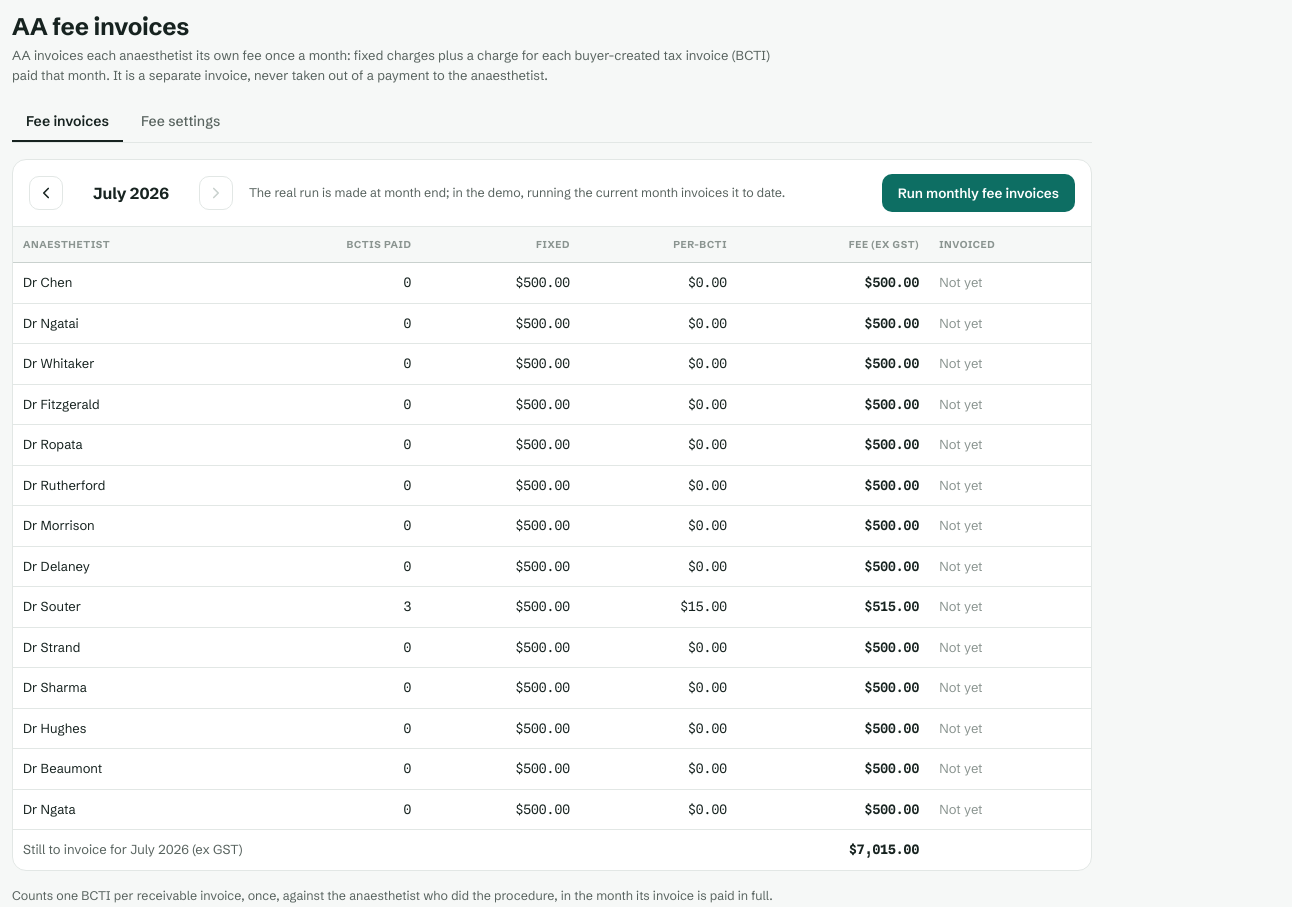
it: AA fee invoices screen (catch-up Phase 16) › steps months back but never past the demo month
The image size is (1292, 907).
Expected: the button named "Next month" is disabled, [199, 176, 233, 210]
Click the button named "Previous month" at (46, 193), box [29, 176, 63, 210]
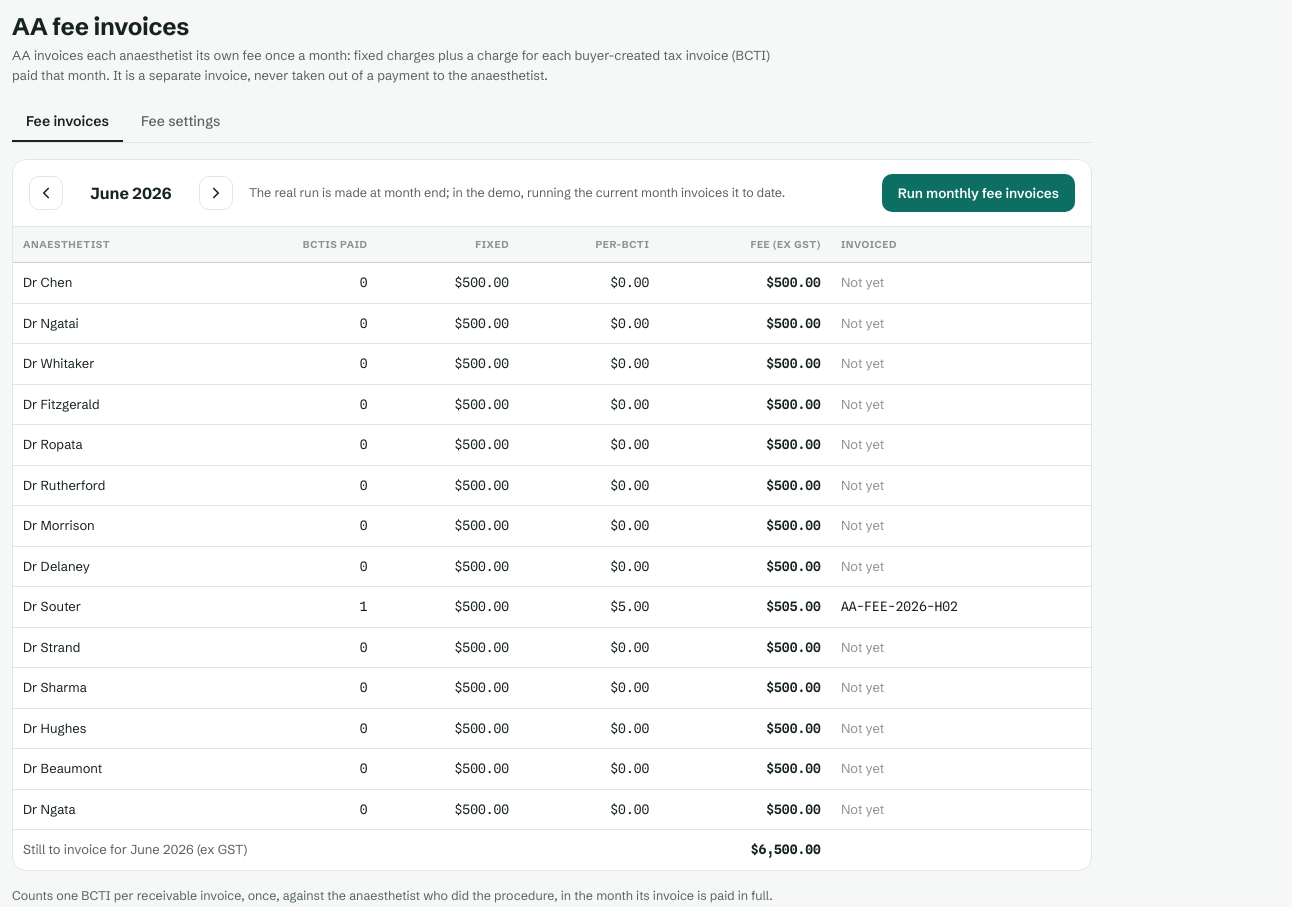
Expected: the text with test id "aa-fee-month" reads "June 2026", [90, 183, 172, 203]
Expected: the row with test id "aa-fee-preview-34821" shows "AA-FEE-2026-H02", [841, 598, 958, 614]
